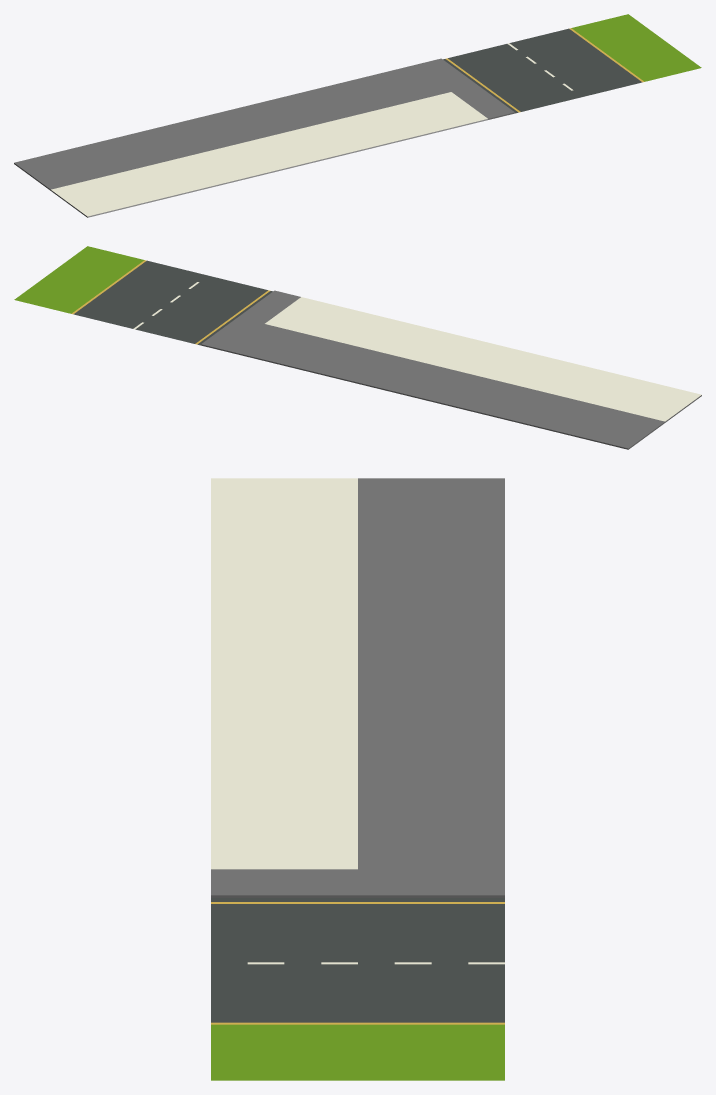
File: Road Tile.fbx
3 renders of one model, top to bottom at view 1: azimuth 30°, elevation 25°; view 2: azimuth 150°, elevation 25°; view 3: azimuth 270°, elevation 25°, orthographic. The views are drawn at different scales.
Parts seen in each view (by area): view 1: Road_3.003; view 2: Road_3.003; view 3: Road_3.003.
Boxes of the visible parts, x1,y1,x2,y2 form: Road_3.003: (14,14,701,217); Road_3.003: (14,246,701,449); Road_3.003: (211,478,504,1080).
Size of the model in its own units: 96.47 by 20 by 0.1948.
1 material, 1 textured.
